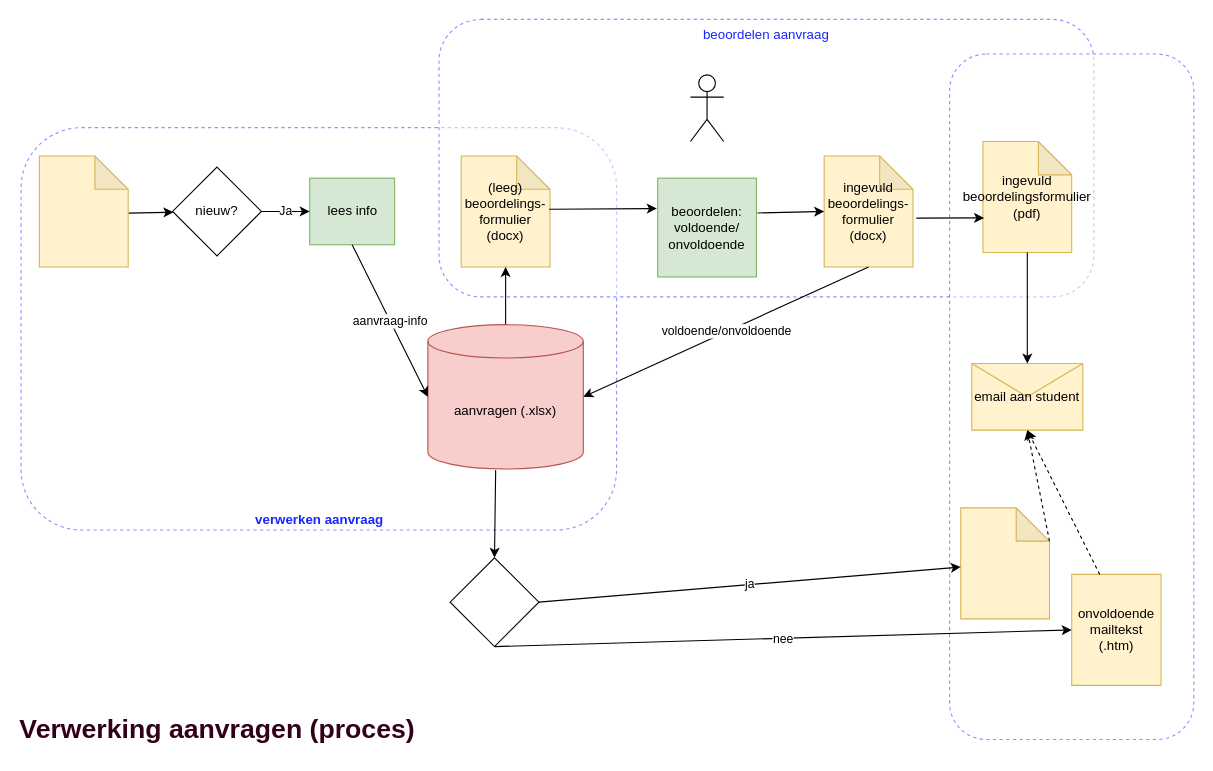
Image size: 1213x771. Some labels were removed from this diagram. The shapes that lost their labels are listed below. From the top down, each one's box as (x1, y1, x2, y2) in pixels, then its label:
(689, 74, 724, 142): beoordelaars
(38, 155, 128, 267): aanvraag (pdf)
(948, 53, 1194, 739): communiceren beoordeling
(960, 507, 1050, 619): voldoende mailtekst (.htm)
(449, 557, 539, 647): voldoende?
